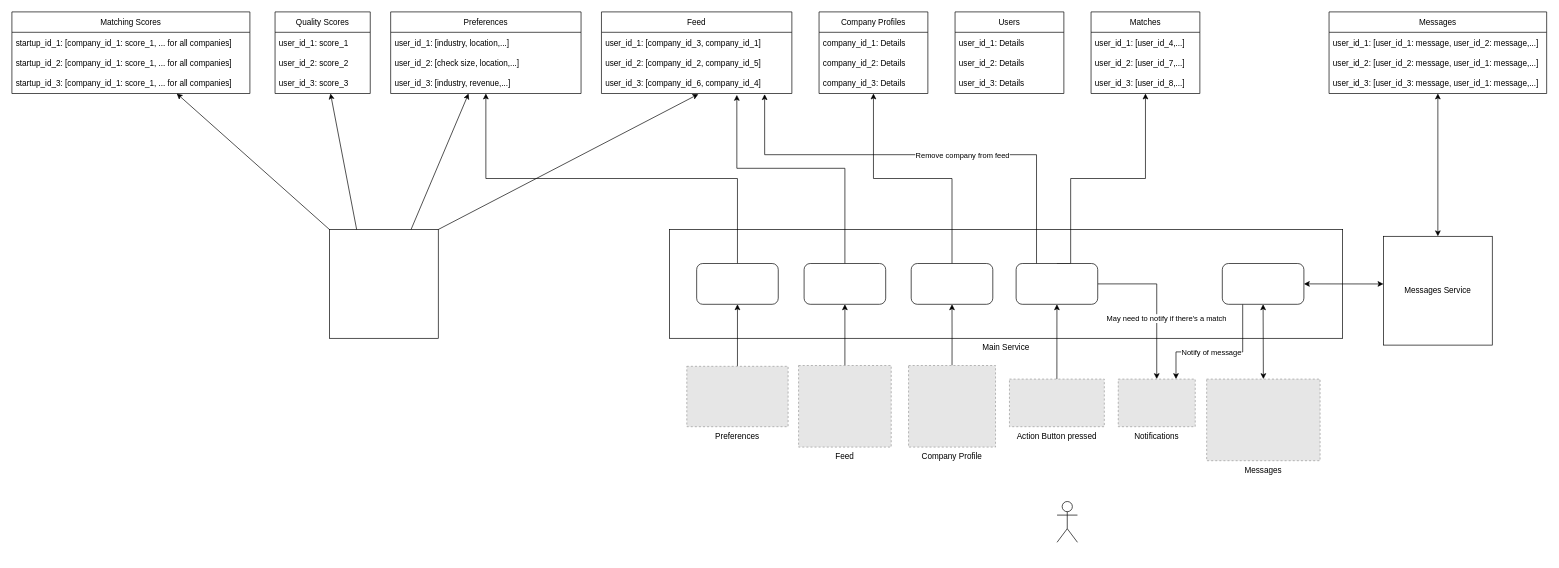
This 1559x568 diagram has some shape labels left out. Grey dashed boxes stand in for pictures. The centre of each missing label's shape, as x and y in pixels:
Get Company Profile: point 952,283
Get Feed: point 844,283
Pressed Action Button: point 1056,283
Recommendations Computed via daily Job: point 383,283
Send / Listen for Messages: point 1263,283
Update Preferences: point 737,283
User: point 1066,521
